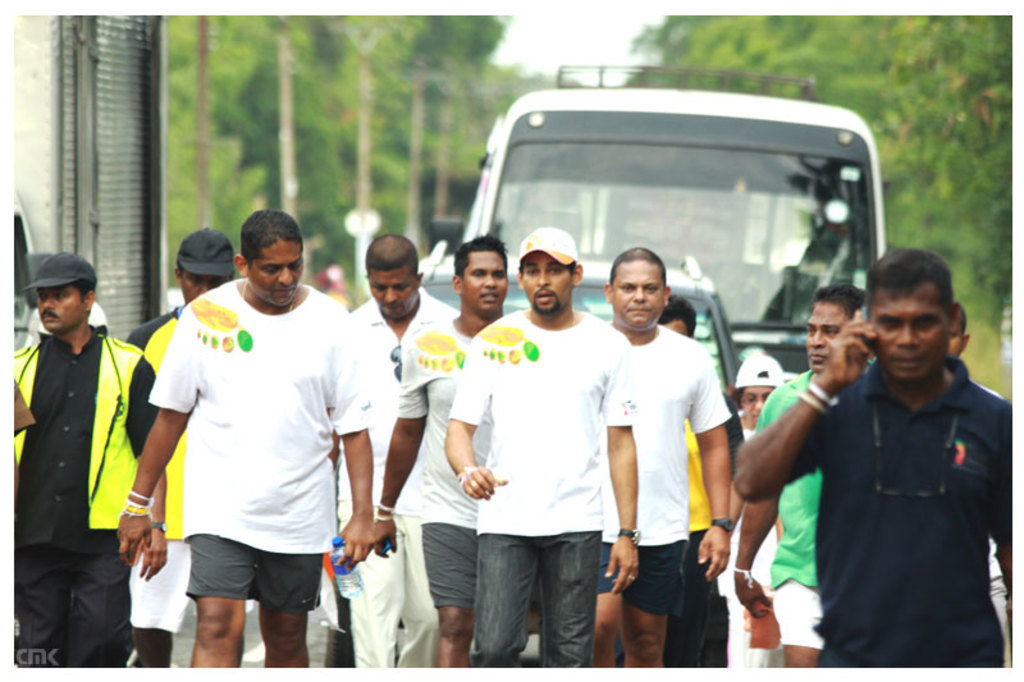Car: (414, 240, 739, 665)
